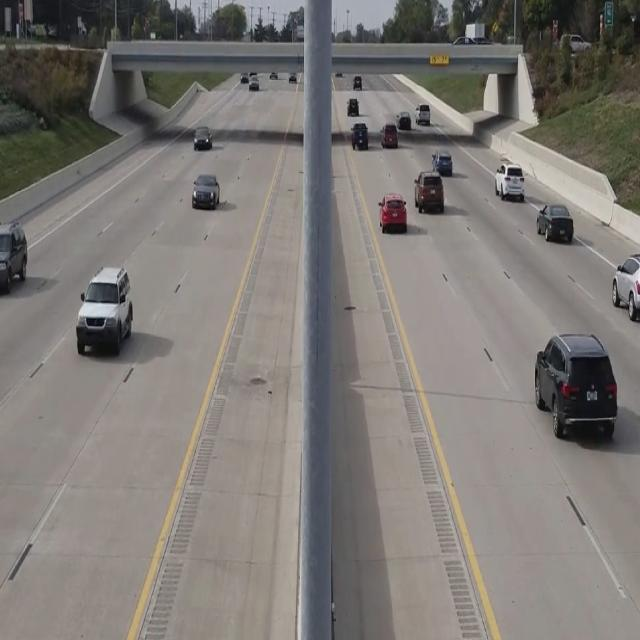car: (534, 332, 618, 439), (75, 265, 132, 356), (0, 220, 28, 296), (611, 253, 640, 325), (536, 202, 574, 244), (414, 170, 444, 213), (378, 193, 407, 233), (192, 172, 220, 209), (350, 122, 368, 149), (193, 126, 212, 150), (382, 123, 397, 148)
